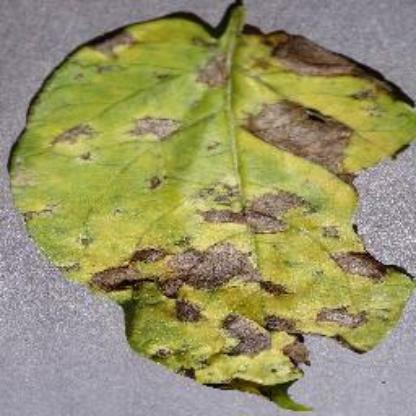Early-Blight: (7, 4, 415, 408)
